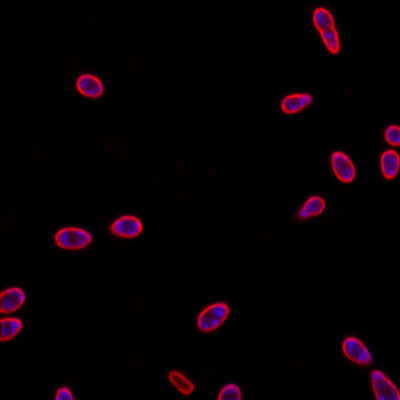Mecillinam: (312, 7, 340, 54), (195, 302, 231, 334), (53, 227, 93, 251), (108, 214, 143, 240), (371, 370, 400, 400), (330, 151, 356, 183), (75, 73, 104, 99), (1, 285, 26, 314), (278, 93, 312, 114), (1, 316, 24, 343), (381, 149, 400, 180)
Oblique: (342, 337, 372, 367), (296, 194, 326, 222)
